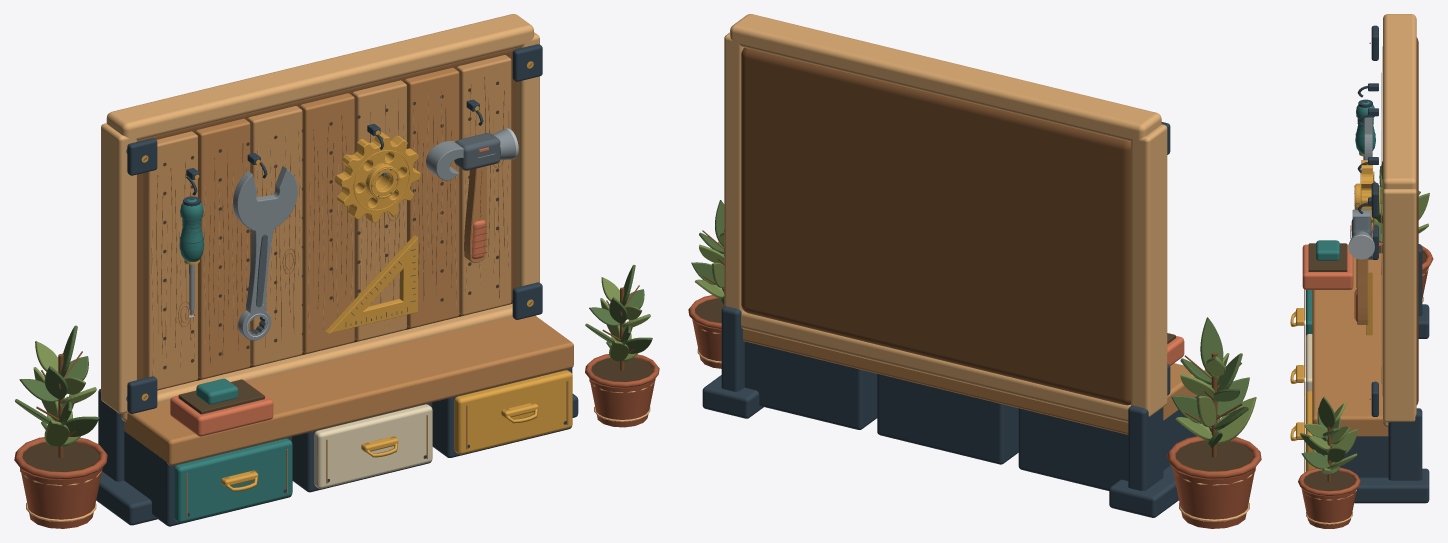
File: workshop-tool-rack-final.glb
3 renders of one model, left to right at view 1: azimuth 30°, elevation 25°; view 2: azimuth 150°, elevation 25°; view 3: azimuth 270°, elevation 25°, orthographic. The views are drawn at different scales.
Visible parts, largest first — view 1: timber (×2), plank, edge, brass (×3), navy, teal (×2), pot (×2), cream, grain, steel (×2), darkWood, grainLight (+4 smaller); view 2: darkWood, edge, navy, pot (×2), timber, soil, Leaf_8, Leaf_1; view 3: edge, timber (×2), navy, pot (×2), brass (×3), teal (×2), coral, darkWood, soil, shadow, steel (×2), steelEdge (+11 smaller).
Part boxes in pixels (<box>): timber (×2): <box>124,67,573,465</box>; plank: <box>143,55,511,389</box>; edge: <box>101,14,539,421</box>; brass (×3): <box>141,61,572,491</box>; navy: <box>96,44,578,526</box>; teal (×2): <box>174,198,292,522</box>; pot (×2): <box>14,354,659,528</box>; cream: <box>314,404,432,488</box>; grain: <box>156,77,568,517</box>; steel (×2): <box>233,129,515,340</box>; darkWood: <box>137,48,532,398</box>; grainLight: <box>151,88,509,375</box>; darkWood: <box>741,47,1130,405</box>; edge: <box>724,14,1167,422</box>; navy: <box>702,122,1199,517</box>; pot (×2): <box>688,295,1261,528</box>; timber: <box>743,329,1197,434</box>; soil: <box>1175,440,1253,471</box>; Leaf_8: <box>1200,317,1223,377</box>; Leaf_1: <box>1217,397,1256,443</box>; edge: <box>1383,14,1416,427</box>; timber (×2): <box>1312,68,1388,436</box>; navy: <box>1315,25,1429,503</box>; pot (×2): <box>1298,242,1433,528</box>; brass (×3): <box>1290,160,1379,471</box>; teal (×2): <box>1306,101,1375,335</box>; coral: <box>1302,244,1353,289</box>; darkWood: <box>1354,37,1418,404</box>; soil: <box>1303,470,1355,490</box>; shadow: <box>1308,243,1347,271</box>; steel (×2): <box>1350,117,1372,259</box>; steelEdge: <box>1348,234,1374,259</box>.
Bounding box in the file's own units: 2.04 × 1.25 × 0.5082.
